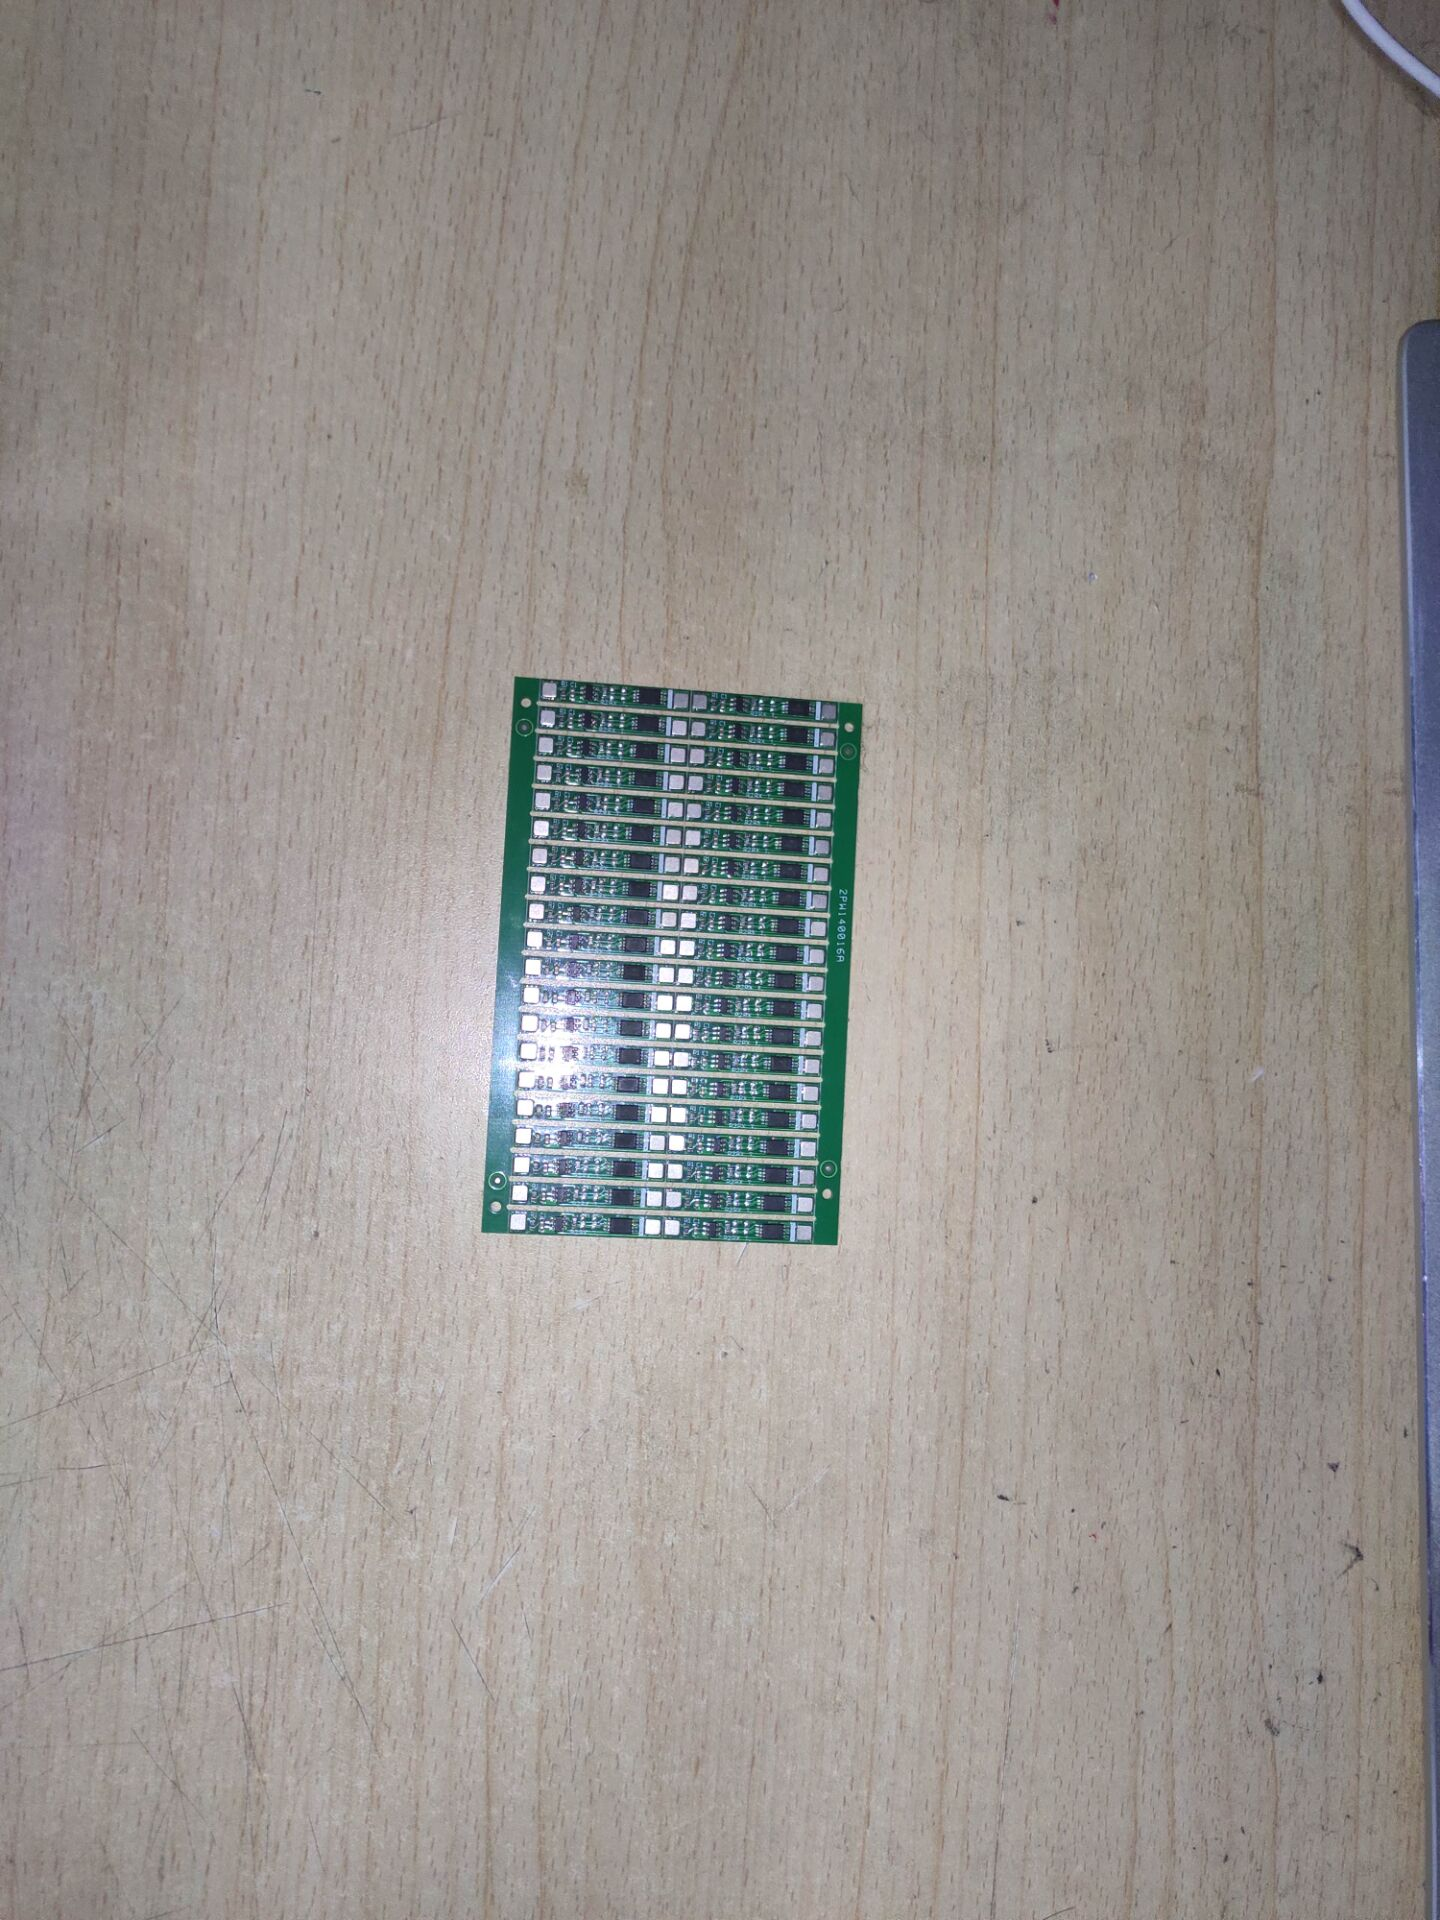point: (536, 762, 553, 782), (819, 703, 837, 722), (541, 681, 558, 698), (800, 1139, 817, 1157), (688, 721, 708, 736), (805, 1003, 824, 1018), (687, 776, 703, 792), (665, 828, 682, 845), (508, 1214, 527, 1229), (672, 693, 690, 708), (670, 746, 685, 763), (685, 828, 701, 846), (806, 1029, 822, 1047), (646, 1187, 660, 1207), (541, 708, 554, 728), (692, 694, 707, 711), (666, 802, 682, 816), (819, 758, 833, 774), (810, 894, 826, 910), (798, 1168, 814, 1185), (534, 792, 549, 808), (532, 847, 547, 861), (663, 884, 677, 899), (819, 731, 834, 747), (816, 839, 830, 854), (808, 977, 823, 991), (802, 1087, 817, 1102), (797, 1197, 812, 1213), (690, 747, 703, 763), (670, 774, 684, 790), (663, 858, 679, 872), (817, 784, 831, 801), (532, 821, 548, 835), (521, 1045, 535, 1058), (518, 1072, 533, 1086), (518, 1100, 532, 1114), (687, 803, 701, 818), (683, 912, 697, 927), (679, 940, 694, 954), (654, 1080, 667, 1094), (651, 1107, 666, 1120), (670, 1135, 684, 1151), (648, 1164, 663, 1177), (816, 813, 830, 827), (812, 868, 828, 881), (809, 950, 824, 963), (804, 1059, 820, 1072), (796, 1227, 811, 1241), (677, 968, 690, 984), (677, 995, 690, 1011), (539, 738, 552, 752), (525, 988, 538, 1002), (523, 1016, 537, 1030), (684, 858, 698, 872), (660, 940, 673, 954), (659, 967, 673, 981), (667, 1193, 681, 1207), (530, 904, 541, 919), (527, 932, 542, 944), (527, 961, 541, 974), (672, 722, 686, 734), (684, 885, 696, 899), (662, 910, 675, 925), (676, 1024, 688, 1038), (671, 1108, 687, 1121), (809, 922, 824, 935), (801, 1115, 817, 1128), (530, 878, 543, 890), (657, 996, 670, 1009), (656, 1024, 670, 1035), (673, 1052, 687, 1065), (673, 1080, 687, 1092), (668, 1165, 680, 1179), (665, 1220, 678, 1234), (514, 1157, 527, 1169), (656, 1052, 668, 1064), (650, 1135, 663, 1147), (646, 1221, 658, 1233), (516, 1128, 527, 1142), (511, 1187, 525, 1197)
